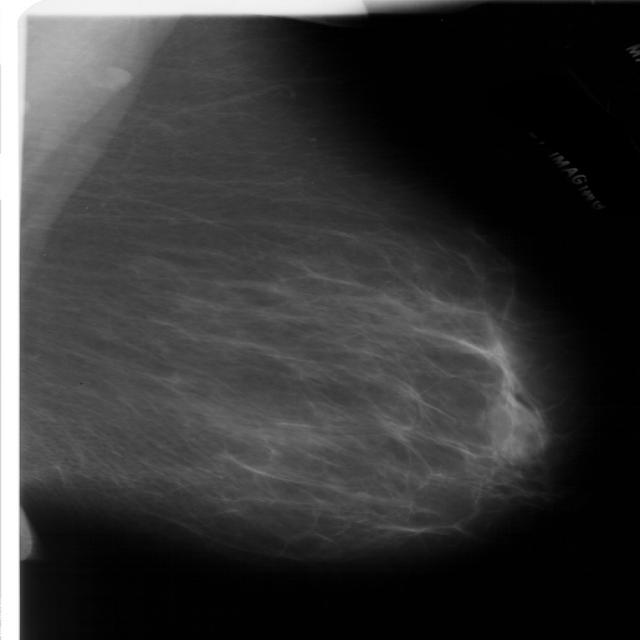tumour: (488, 403, 543, 454)
